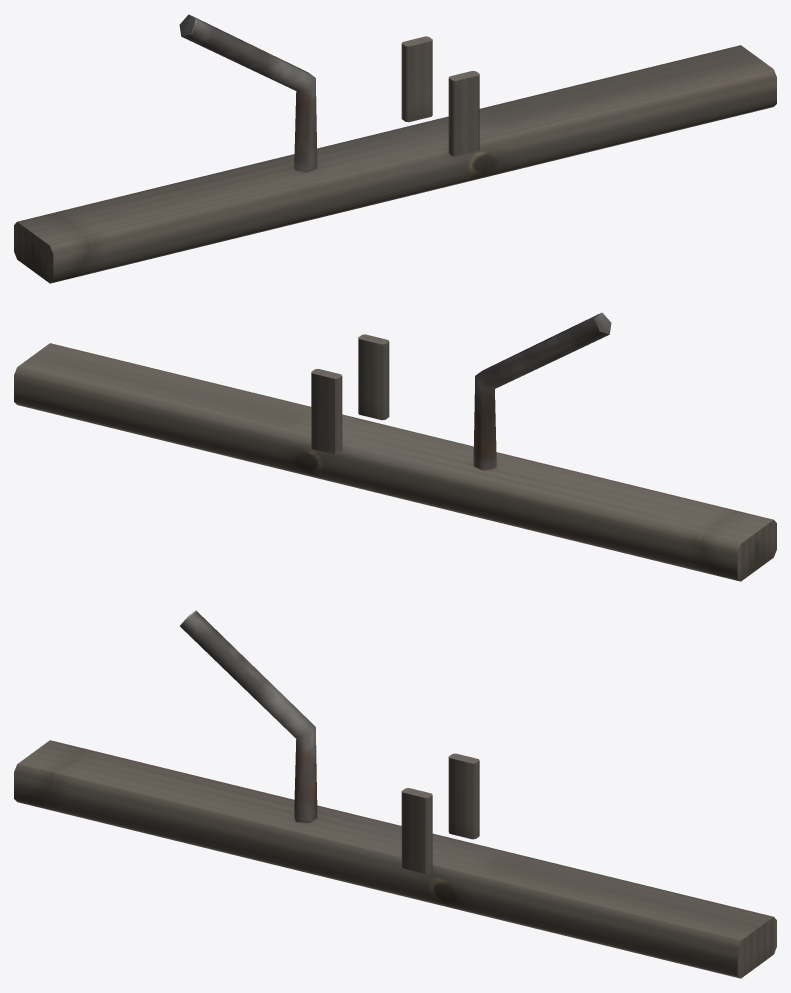
File: SM_FireBallista_Slider.fbx
3 views of the same model, one above another, from view 1: azimuth 30°, elevation 25°; view 2: azimuth 150°, elevation 25°; view 3: azimuth 330°, elevation 25° (orthographic).
Parts seen in each view (by area): view 1: SM_FireBallista_Slider; view 2: SM_FireBallista_Slider; view 3: SM_FireBallista_Slider.
Boxes of the visible parts, <box> form: SM_FireBallista_Slider: <box>14,14,776,283</box>; SM_FireBallista_Slider: <box>14,312,776,581</box>; SM_FireBallista_Slider: <box>14,610,776,978</box>.
Size of the model in its own units: 80 by 10.2 by 22.8.
